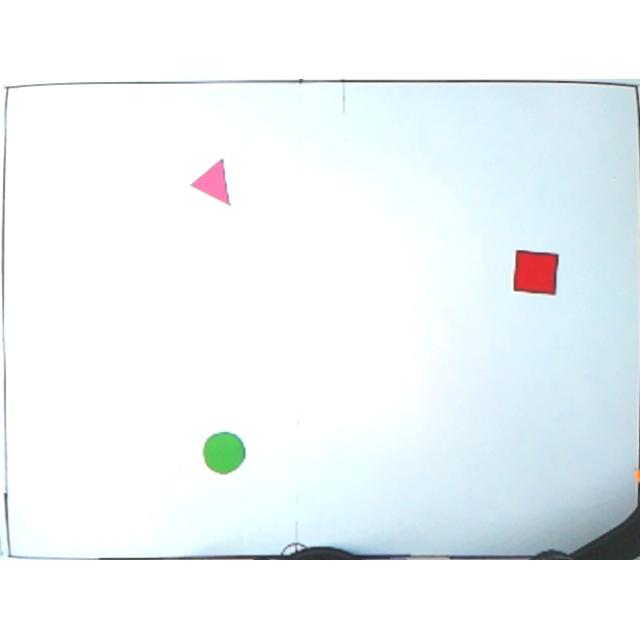greenCircle: (201, 432, 249, 478)
pinkTriangle: (186, 156, 234, 210)
redSquare: (512, 248, 560, 302)
